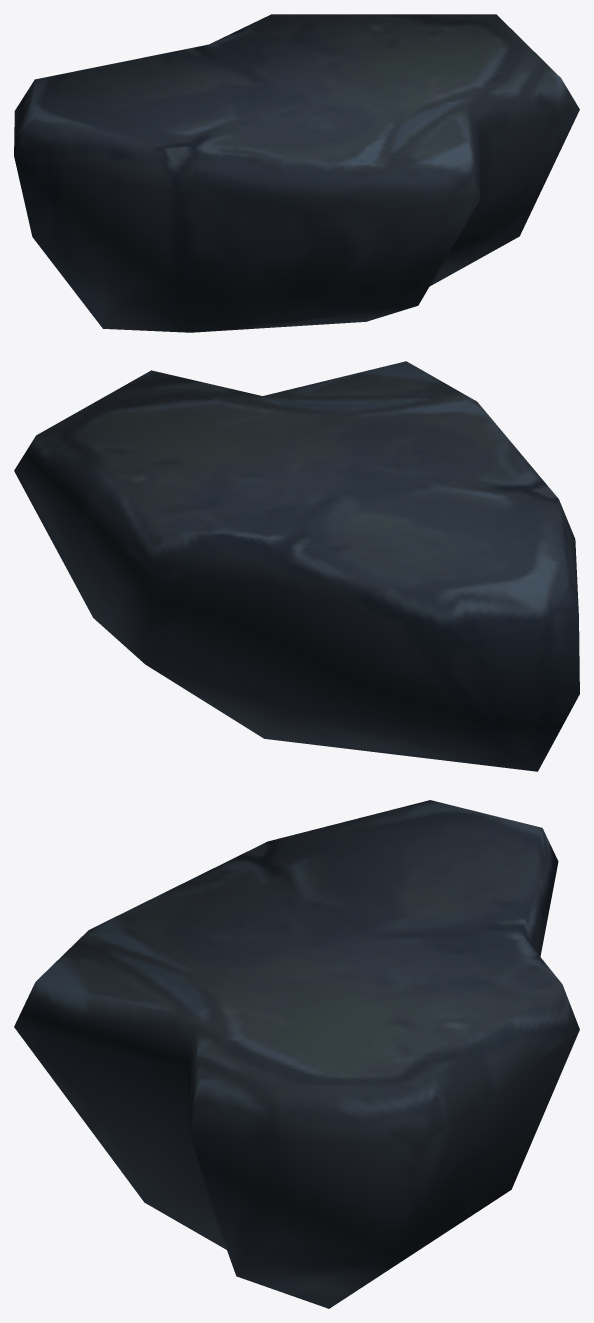
The model's file is sn_jiguan_stone_002.FBX.
3 renders of one model, top to bottom at view 1: azimuth 30°, elevation 25°; view 2: azimuth 150°, elevation 25°; view 3: azimuth 270°, elevation 25°, orthographic. The views are drawn at different scales.
Visible parts, largest first — view 1: sn_jiguan_stone_002; view 2: sn_jiguan_stone_002; view 3: sn_jiguan_stone_002.
Boxes of the visible parts, bbox=[...] form: sn_jiguan_stone_002: bbox=[14, 14, 579, 332]; sn_jiguan_stone_002: bbox=[14, 361, 579, 771]; sn_jiguan_stone_002: bbox=[14, 800, 579, 1308].
Bounding box in the file's own units: 278 × 132 × 212.
